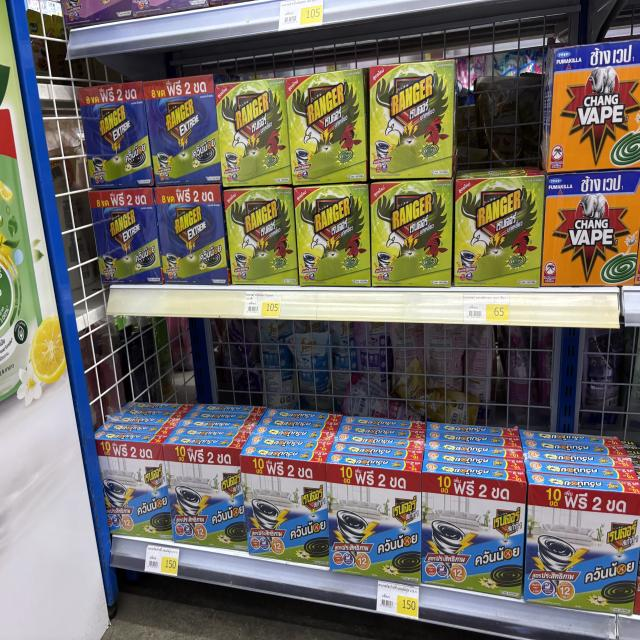empty_shelf: (455, 53, 551, 174)
